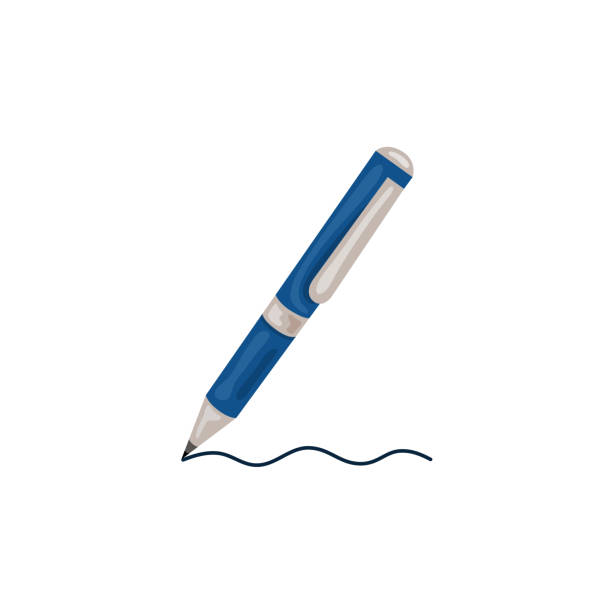pen: (169, 135, 431, 457)
